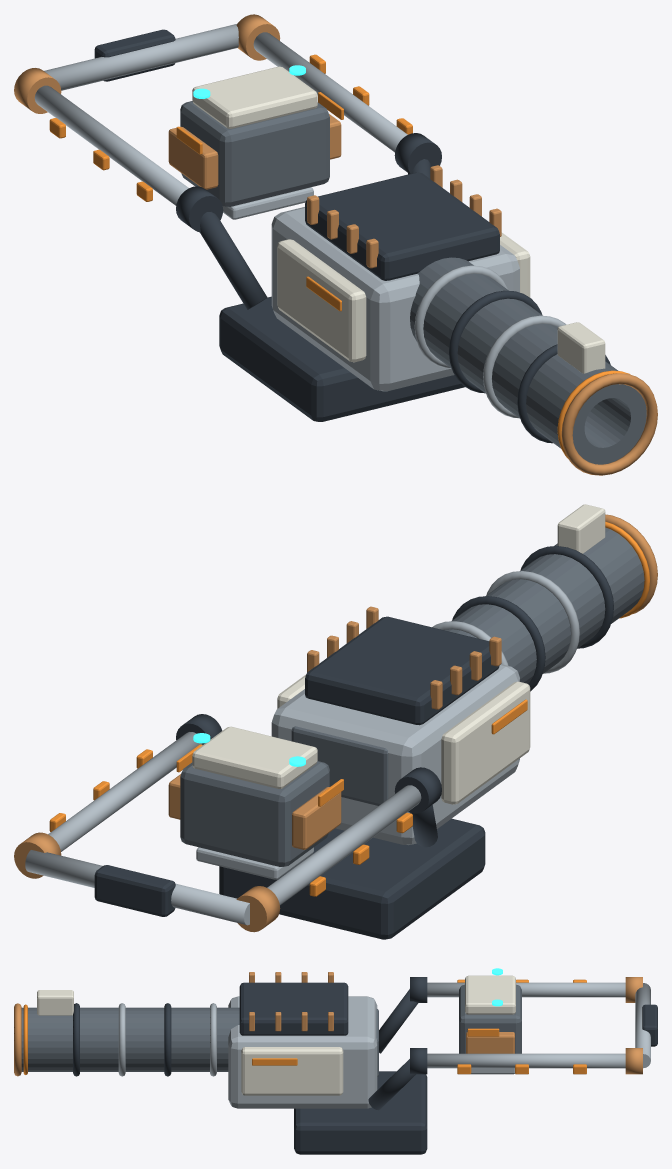
File: M01-018_kinetic_counterweight_cannon.fbx
3 views of the same model, one above another, from view 1: azimuth 30°, elevation 25°; view 2: azimuth 150°, elevation 25°; view 3: azimuth 270°, elevation 25° (orthographic). The views are drawn at different scales.
Parts seen in each view (by area): view 1: M01-018_True_hollow_barrel, M01-018_Receiver_upper, M01-018_Receiver, M01-018_Socket_foot, M01-018_Tungsten_counterweight, M01-018_Ceramic_shield_-1, M01-018_Counterweight_top_cap, M01-018_Open_rear_crossbar, M01-018_Exposed_guide_rail_-1, M01-018_Exposed_guide_rail_1, M01-018_Muzzle_copper_ring, M01-018_Rear_support_leg_-1 (+13 smaller); view 2: M01-018_Socket_foot, M01-018_Receiver_upper, M01-018_True_hollow_barrel, M01-018_Receiver, M01-018_Tungsten_counterweight, M01-018_Ceramic_shield_-1, M01-018_Counterweight_top_cap, M01-018_Breech_hatch, M01-018_Exposed_guide_rail_-1, M01-018_Exposed_guide_rail_1, M01-018_Open_rear_crossbar, M01-018_Rear_stop (+13 smaller); view 3: M01-018_True_hollow_barrel, M01-018_Socket_foot, M01-018_Receiver, M01-018_Receiver_upper, M01-018_Ceramic_shield_1, M01-018_Exposed_guide_rail_1, M01-018_Exposed_guide_rail_-1, M01-018_Counterweight_top_cap, M01-018_Tungsten_counterweight, M01-018_Top_muzzle_sight, M01-018_Counterweight_guide_fin_1, M01-018_Open_rear_crossbar (+16 smaller).
Part boxes in pixels (x1,y1,x2,y2): M01-018_True_hollow_barrel: [410, 257, 646, 464]; M01-018_Receiver_upper: [305, 172, 499, 280]; M01-018_Receiver: [271, 207, 519, 391]; M01-018_Socket_foot: [219, 296, 464, 421]; M01-018_Tungsten_counterweight: [180, 101, 329, 206]; M01-018_Ceramic_shield_-1: [277, 239, 366, 362]; M01-018_Counterweight_top_cap: [192, 66, 317, 128]; M01-018_Open_rear_crossbar: [44, 24, 238, 90]; M01-018_Exposed_guide_rail_-1: [34, 85, 188, 205]; M01-018_Exposed_guide_rail_1: [253, 32, 407, 152]; M01-018_Muzzle_copper_ring: [561, 373, 657, 475]; M01-018_Rear_support_leg_-1: [200, 212, 267, 309]; M01-018_Socket_foot: [219, 818, 485, 939]; M01-018_Receiver_upper: [305, 616, 499, 725]; M01-018_True_hollow_barrel: [444, 527, 644, 683]; M01-018_Receiver: [271, 664, 519, 844]; M01-018_Tungsten_counterweight: [180, 761, 329, 866]; M01-018_Ceramic_shield_-1: [441, 681, 530, 804]; M01-018_Counterweight_top_cap: [192, 726, 317, 788]; M01-018_Breech_hatch: [291, 726, 388, 805]; M01-018_Exposed_guide_rail_-1: [267, 785, 421, 905]; M01-018_Exposed_guide_rail_1: [48, 732, 202, 851]; M01-018_Open_rear_crossbar: [25, 850, 249, 925]; M01-018_Rear_stop: [94, 865, 175, 916]; M01-018_True_hollow_barrel: [21, 1007, 239, 1071]; M01-018_Socket_foot: [294, 1071, 427, 1154]; M01-018_Receiver: [228, 996, 377, 1108]; M01-018_Receiver_upper: [239, 982, 348, 1035]; M01-018_Ceramic_shield_1: [241, 1047, 343, 1095]; M01-018_Exposed_guide_rail_1: [427, 1053, 625, 1068]; M01-018_Exposed_guide_rail_-1: [427, 982, 625, 997]; M01-018_Counterweight_top_cap: [465, 975, 515, 1014]; M01-018_Tungsten_counterweight: [459, 984, 521, 1053]; M01-018_Top_muzzle_sight: [37, 990, 73, 1015]; M01-018_Counterweight_guide_fin_1: [466, 1032, 514, 1053]; M01-018_Open_rear_crossbar: [635, 983, 650, 1068].
Bounding box in the file's own units: 117 × 91.25 × 367.
